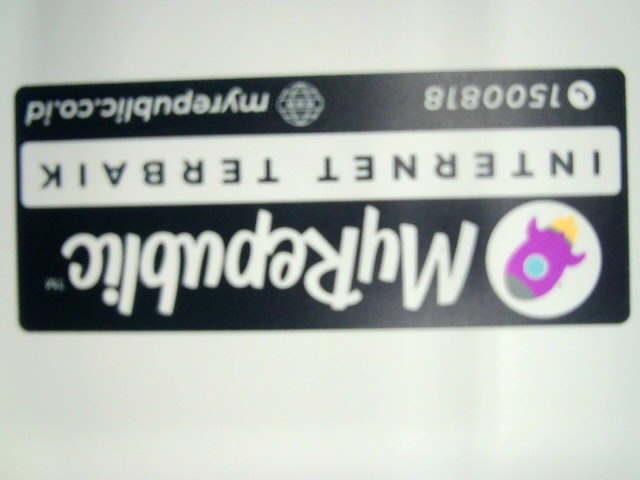BD_MyRepublic: (5, 71, 635, 327)
